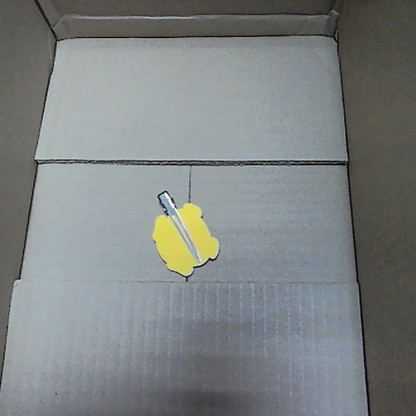dogclip: (150, 186, 219, 276)
